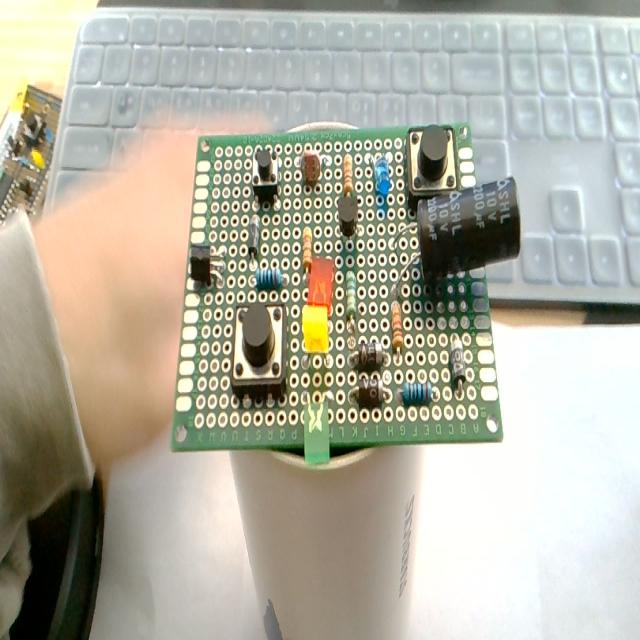Electrolytic capacitor: (415, 176, 521, 282)
cds: (299, 146, 327, 188)
diode: (348, 378, 390, 410), (449, 332, 466, 390), (352, 340, 386, 369), (248, 215, 260, 257)
led: (301, 257, 341, 321), (302, 398, 330, 466), (301, 302, 330, 354), (373, 155, 391, 213)
resistor: (337, 155, 357, 238), (402, 380, 432, 406), (255, 266, 282, 290), (391, 302, 403, 354), (346, 270, 356, 320), (302, 227, 312, 273), (343, 154, 353, 196)
switch: (230, 299, 288, 404), (406, 125, 458, 199), (252, 148, 280, 206)
transistor: (188, 243, 227, 288)
